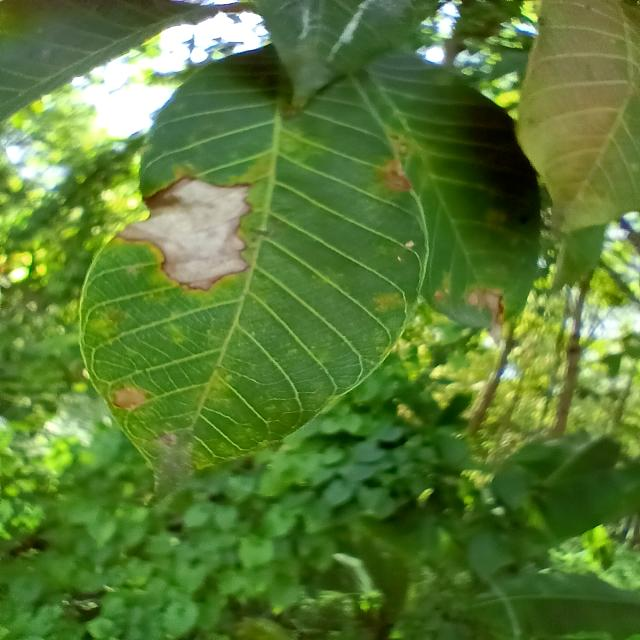Leaf-Blight: (114, 178, 253, 290)
